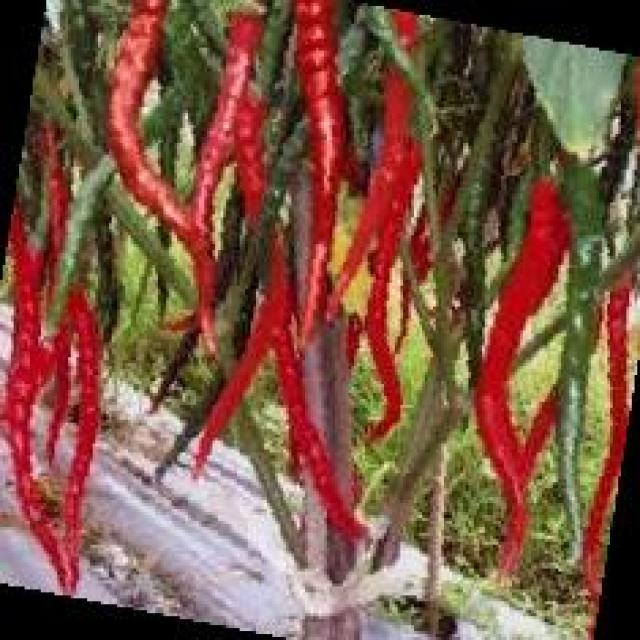Chili_healthy: (452, 130, 582, 579), (26, 241, 150, 602), (269, 0, 370, 338)
